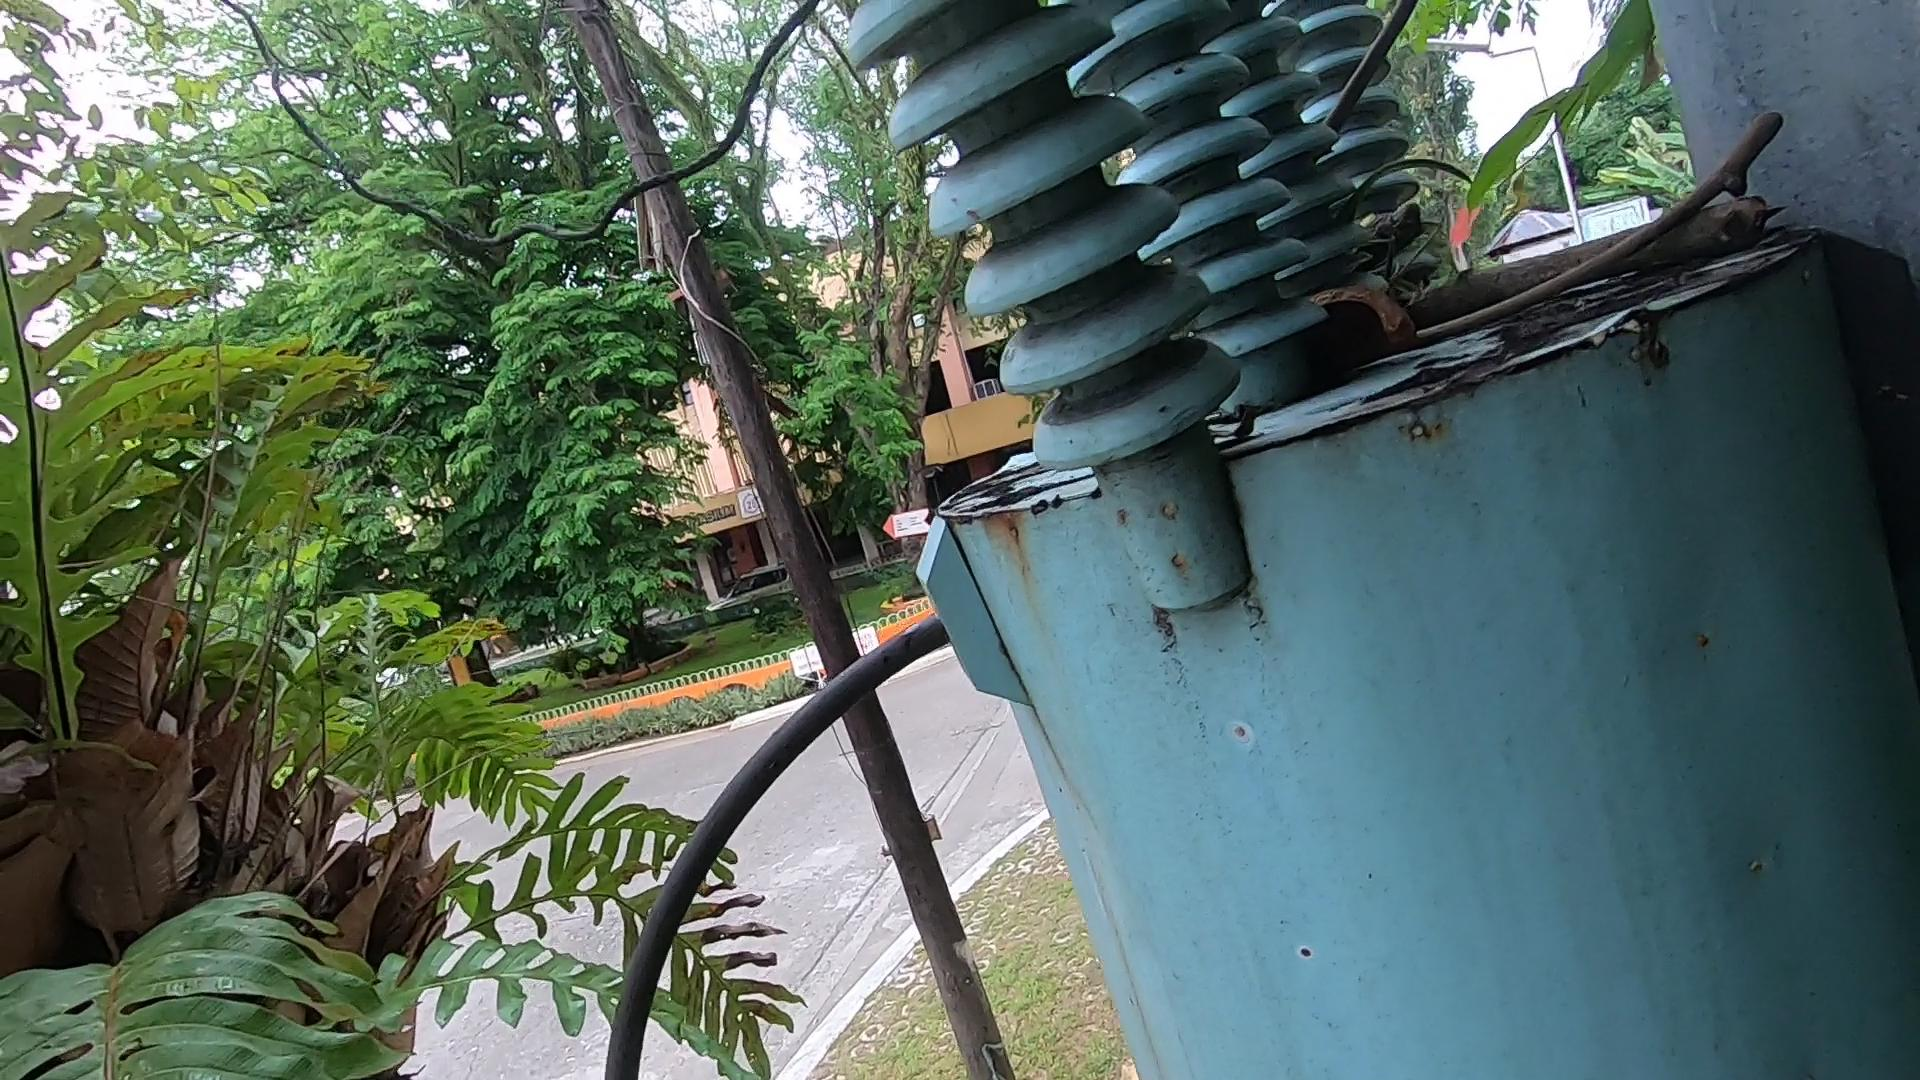branch with leaves: (1414, 223, 1772, 286)
mahogany fruit: (1313, 276, 1466, 367)
tree branch: (1416, 123, 1785, 313)
